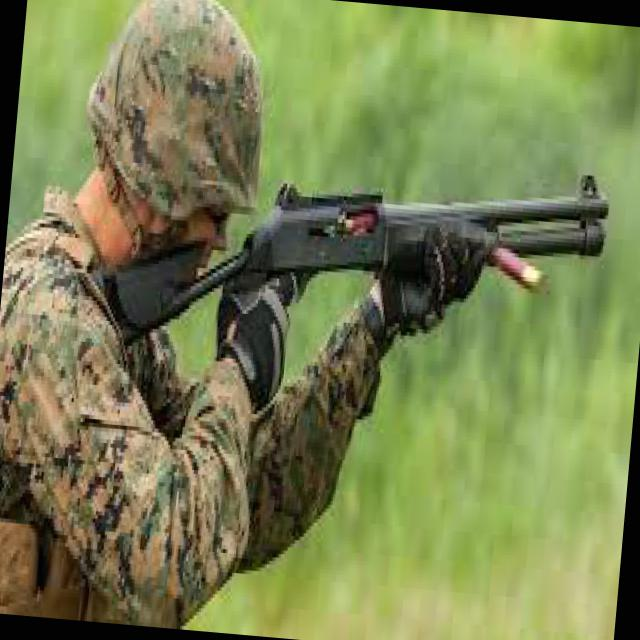long weapon: (92, 154, 616, 393)
